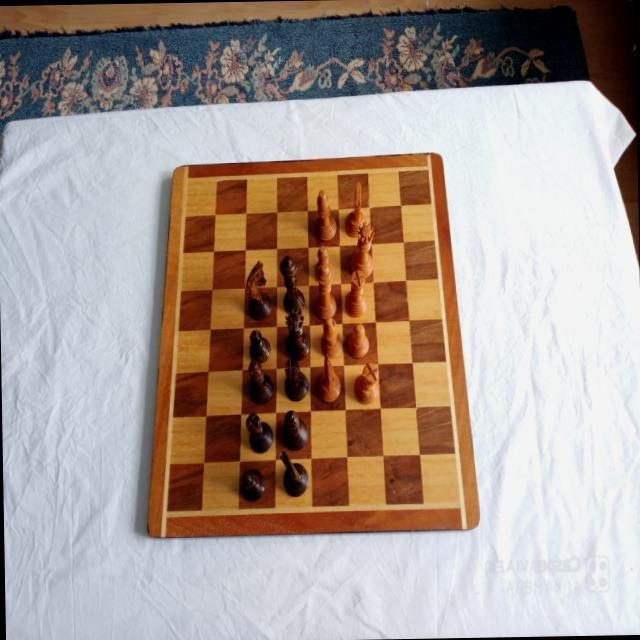black-bishop: (246, 358, 274, 404), (282, 409, 308, 449)
black-king: (278, 254, 305, 314)
black-knight: (244, 259, 272, 319), (278, 446, 309, 497)
black-pawn: (239, 467, 266, 501), (248, 328, 271, 362)
black-queen: (283, 304, 309, 360)
black-rook: (245, 411, 275, 453), (283, 358, 309, 402)
white-bishop: (313, 189, 335, 241), (319, 316, 343, 359)
white-king: (312, 262, 337, 318)
white-knight: (342, 179, 365, 236), (314, 353, 341, 401)
white-pawn: (345, 323, 370, 357), (312, 245, 333, 281)
white-queen: (349, 221, 375, 279)
white-rook: (351, 360, 380, 403), (342, 268, 367, 317)
